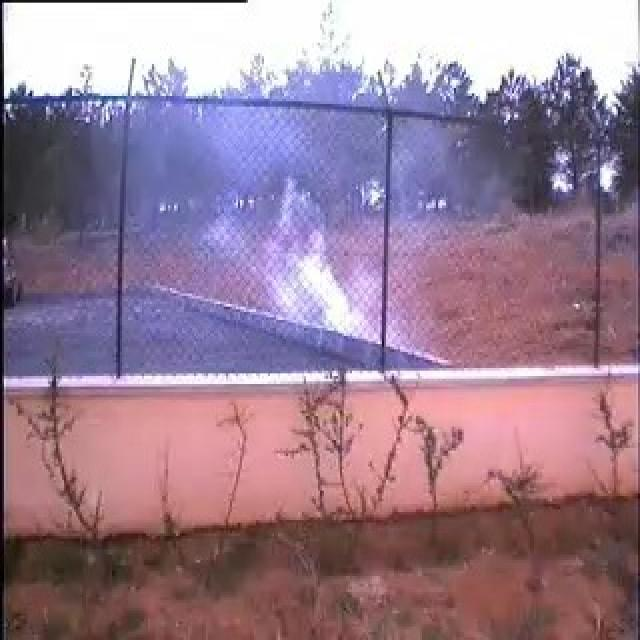smoke: (211, 126, 412, 334)
